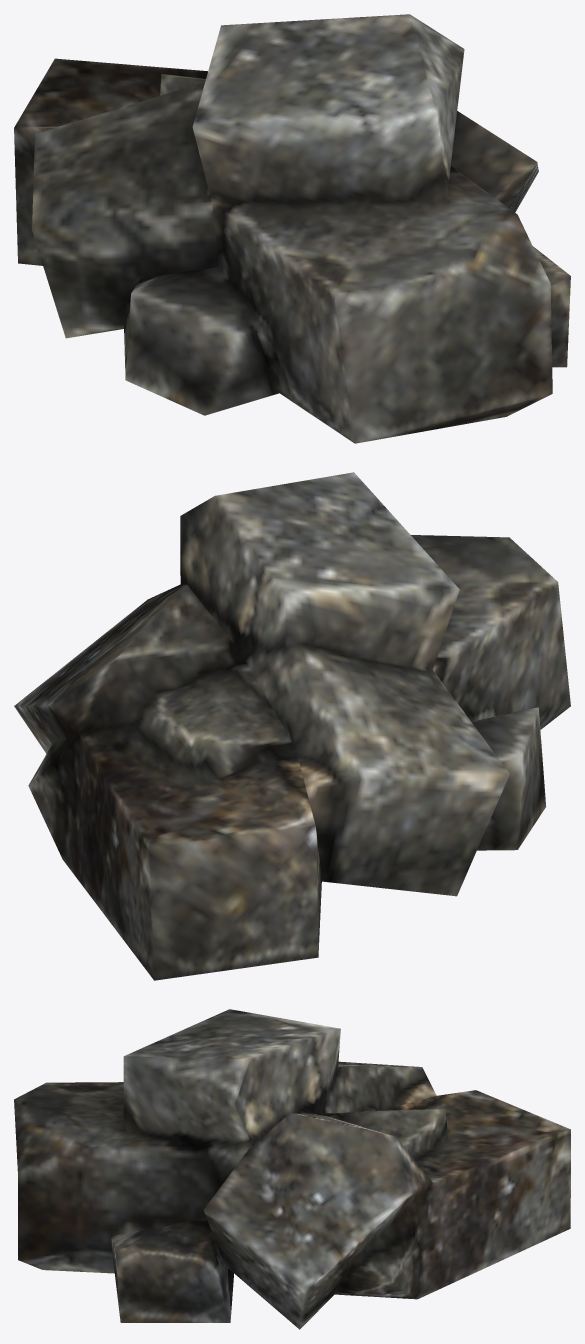
File: Brick3.fbx
3 renders of one model, top to bottom at view 1: azimuth 30°, elevation 25°; view 2: azimuth 150°, elevation 25°; view 3: azimuth 270°, elevation 25°, orthographic. The views are drawn at different scales.
Parts seen in each view (by area): view 1: Brick_plates_group_150tris_Group57690; view 2: Brick_plates_group_150tris_Group57690; view 3: Brick_plates_group_150tris_Group57690.
Part boxes in pixels (x1,y1,x2,y2): Brick_plates_group_150tris_Group57690: (14,14,570,443); Brick_plates_group_150tris_Group57690: (14,472,570,980); Brick_plates_group_150tris_Group57690: (14,1009,570,1329).
Bounding box in the file's own units: 2.29 × 1.35 × 2.88.
